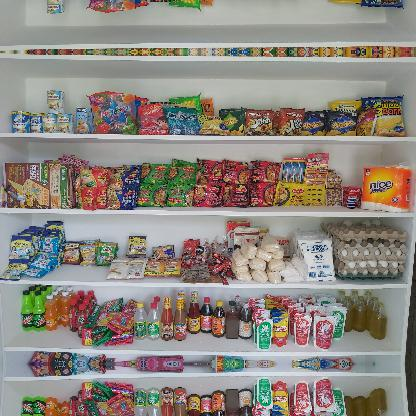Koko-Krunch: (2, 161, 76, 209)
